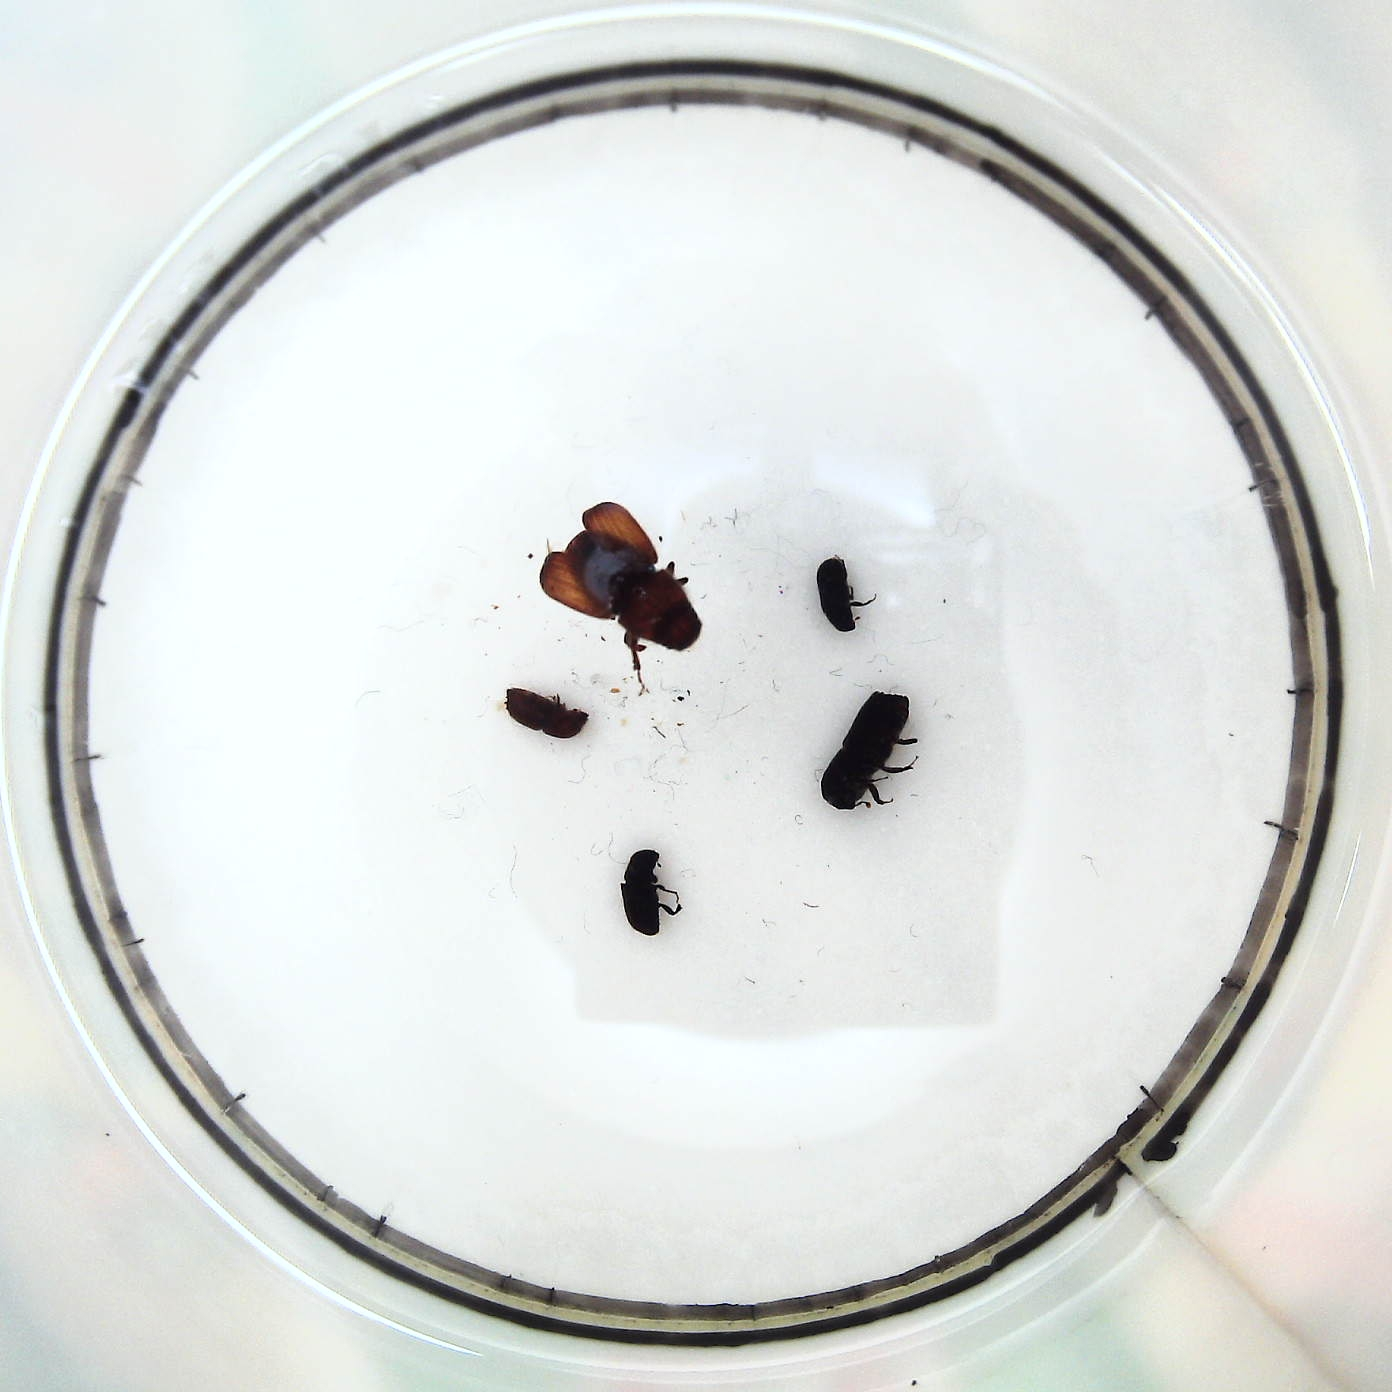Boerner: (816, 688, 911, 812)
Leconte: (538, 506, 704, 653)
Linnaeus: (502, 682, 591, 746)
armandi: (622, 850, 672, 937)
coleoptera: (813, 555, 862, 634)
